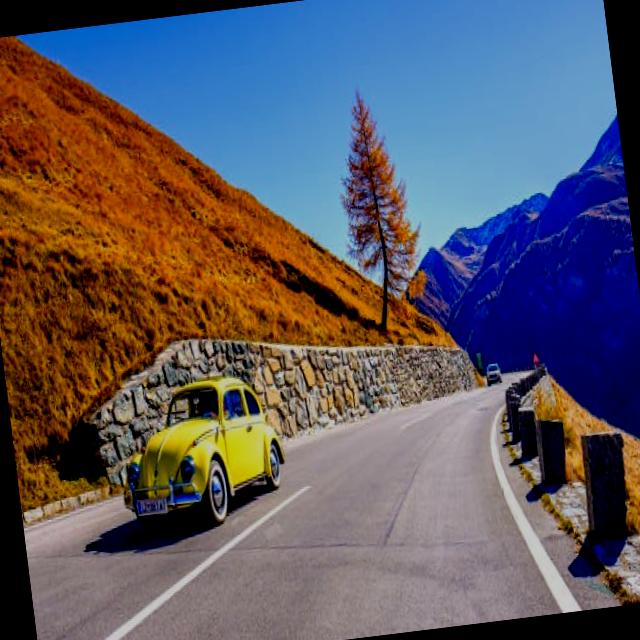car: (116, 366, 290, 524)
